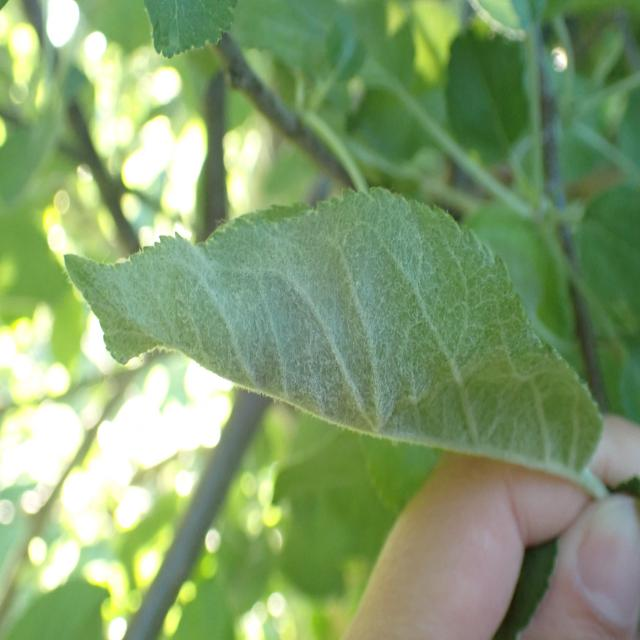Powdery_mildew: (44, 181, 605, 498)
